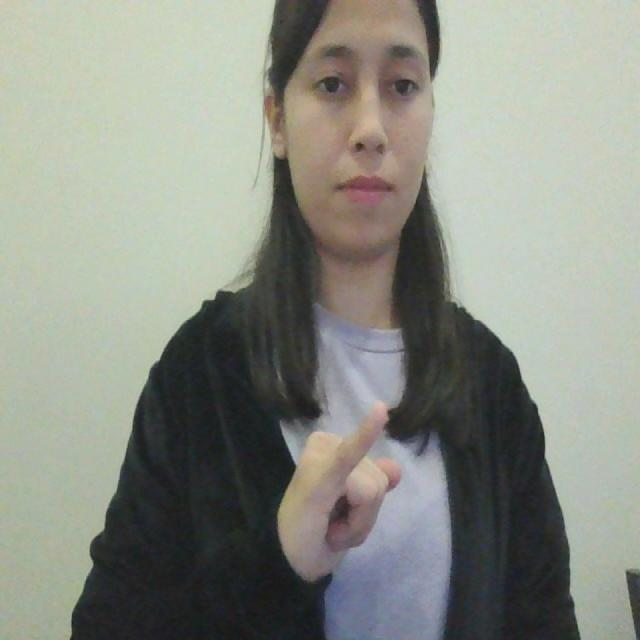kotu: (276, 392, 412, 582)
